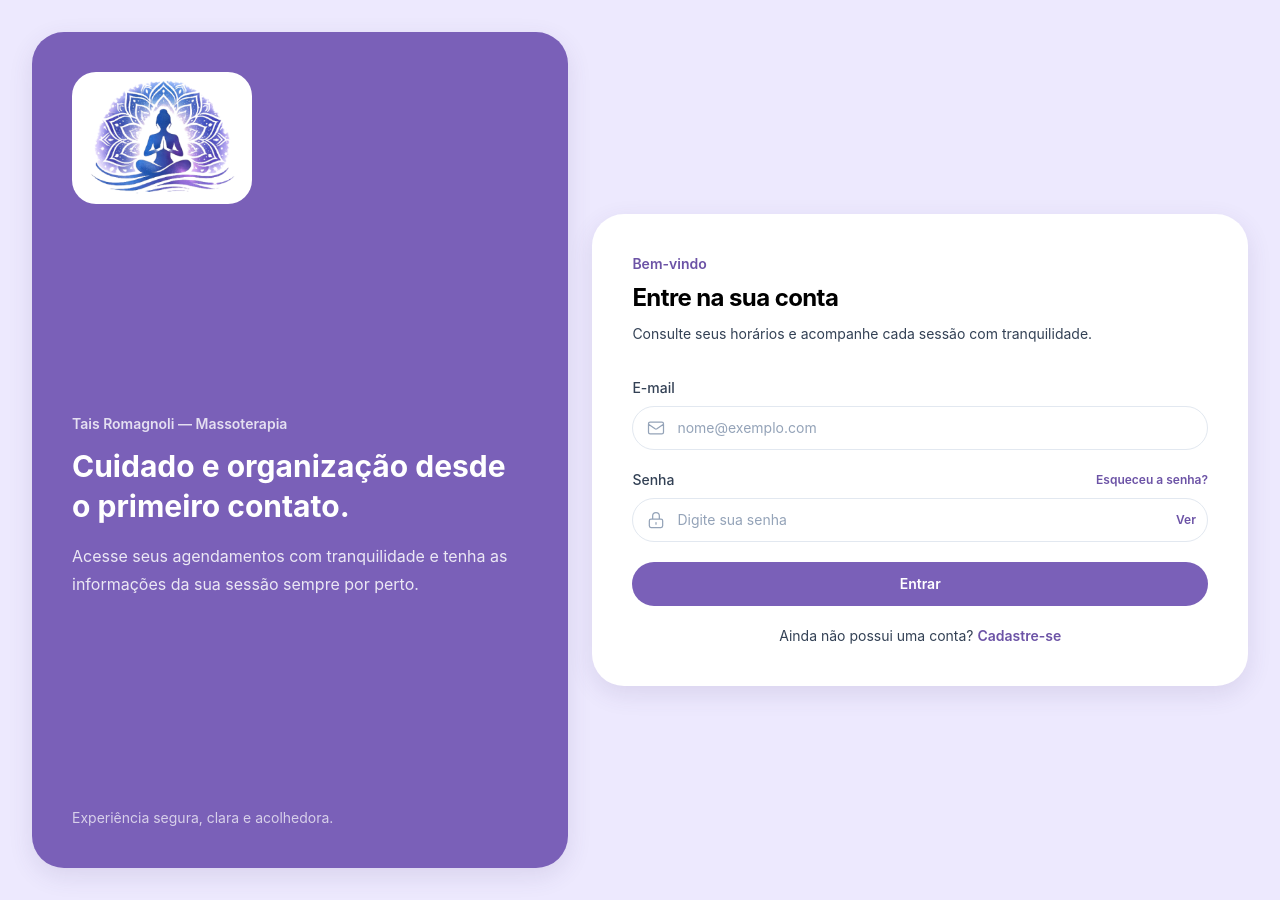
Scenario: Fluxos de Autenticação, Erros e Sessões Expiradas › Navegação entre fluxos de autenticação › permite alternar entre Login e Recuperação de Senha
// Clica em "Esqueceu a senha?"
Click the link "Esqueceu a senha?". click: (1152, 480)
box: [1096,472,1208,488]
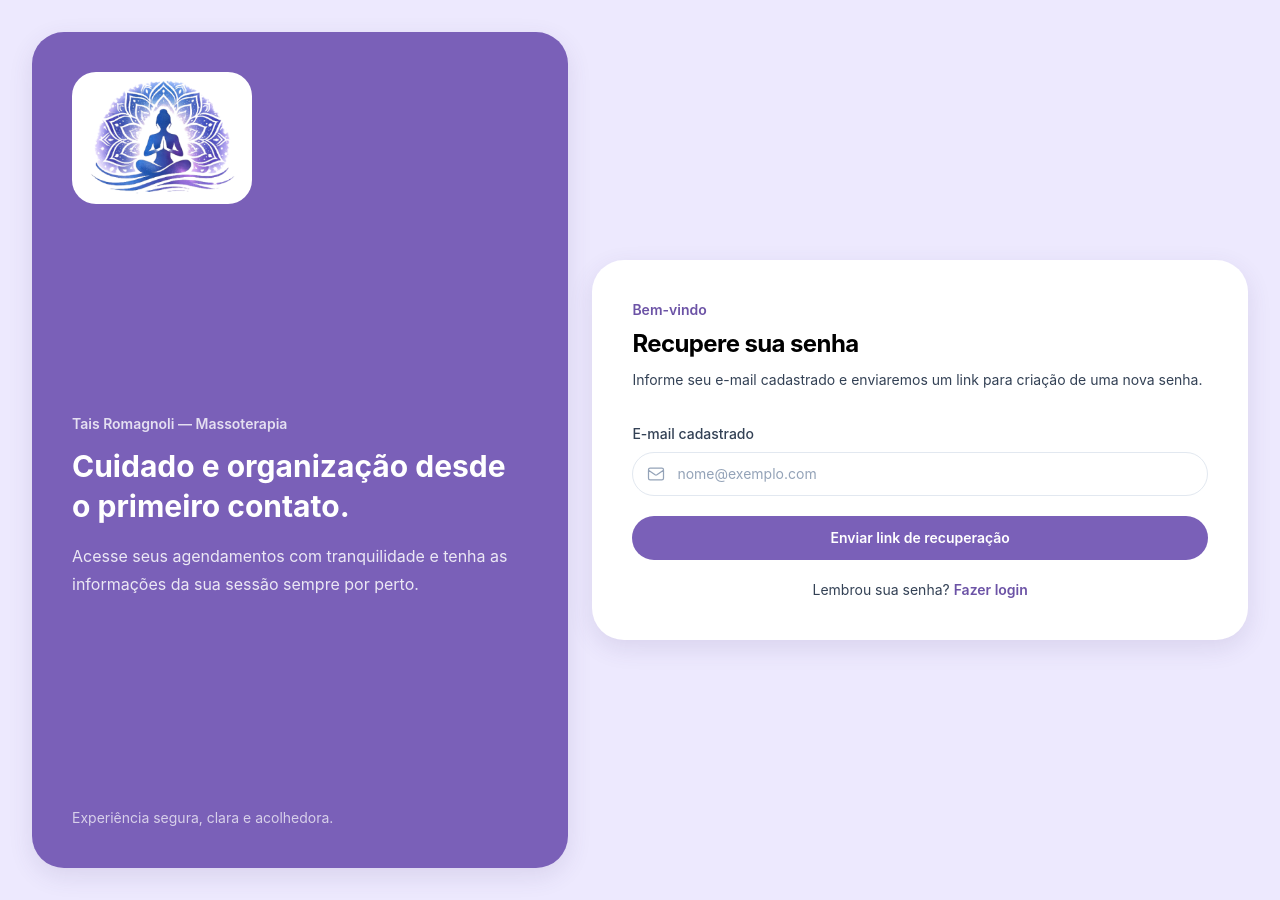
Now the heading "Recupere sua senha" is shown, box [632,329,859,358]
// Clica em "Fazer login" para retornar
Click the link "Fazer login". click: (991, 590)
box: [954,581,1028,598]
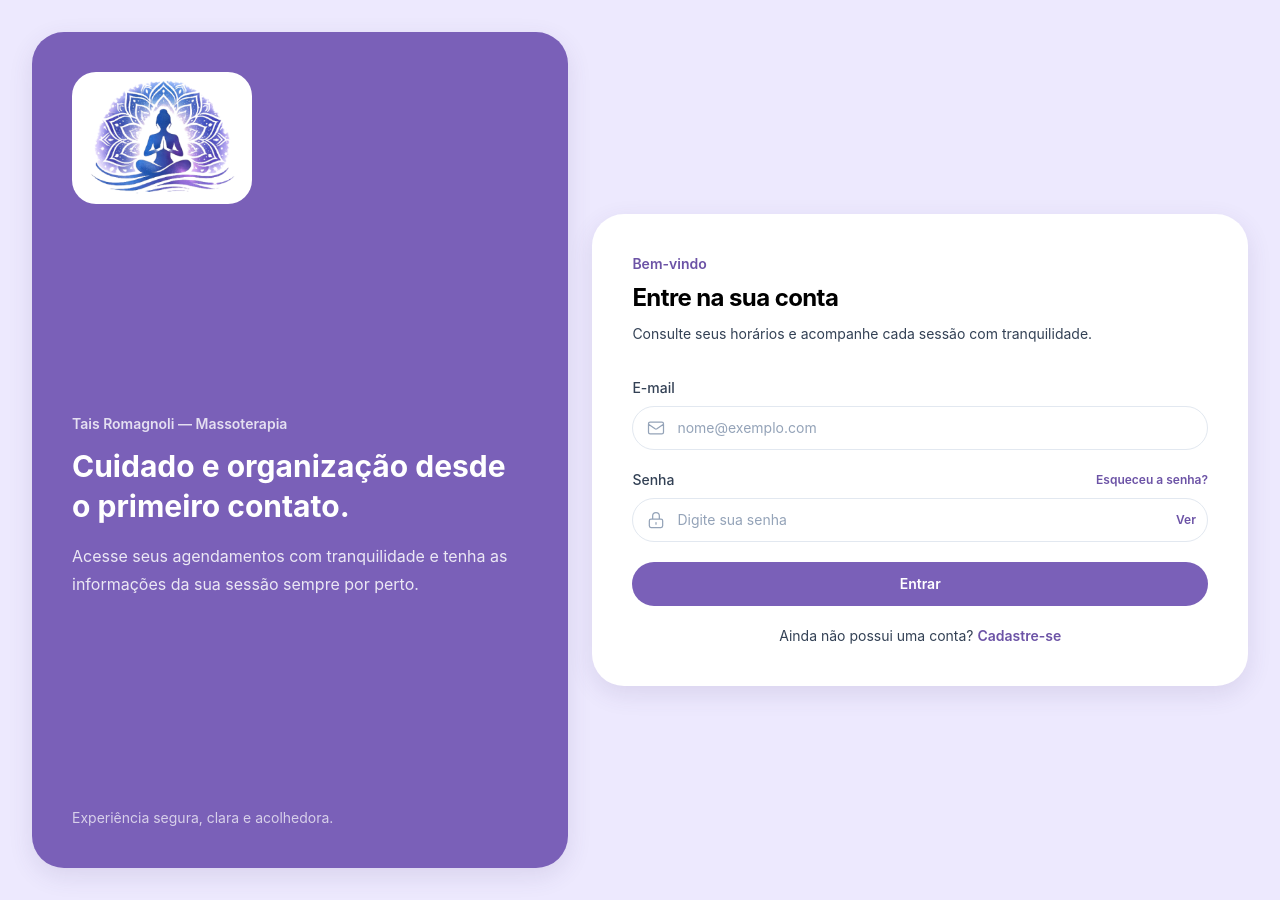
Now the heading "Entre na sua conta" is shown, box [632,283,838,312]
